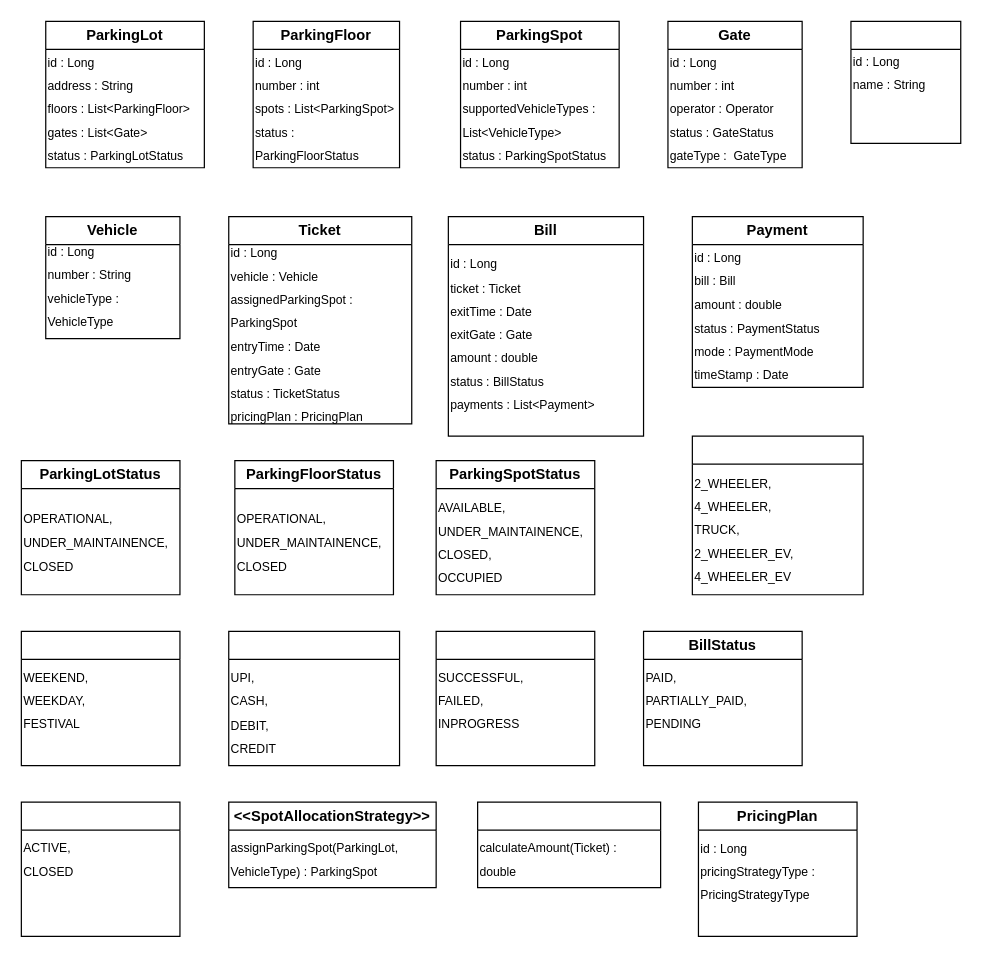
Some shapes in this 982 by 958 pixel diagram are drawn without their labels. The box of each missing label's shape, as (x1, y1, x2, y2) in pixels:
<<PricingStrategy>>: (476, 801, 661, 888)
Operator: (850, 20, 961, 143)
PaymentMode: (228, 630, 400, 766)
PaymentStatus: (435, 630, 595, 766)
PricingStrategyType: (20, 630, 180, 766)
TicketStatus: (20, 801, 180, 936)
VehicleType: (691, 435, 863, 595)
